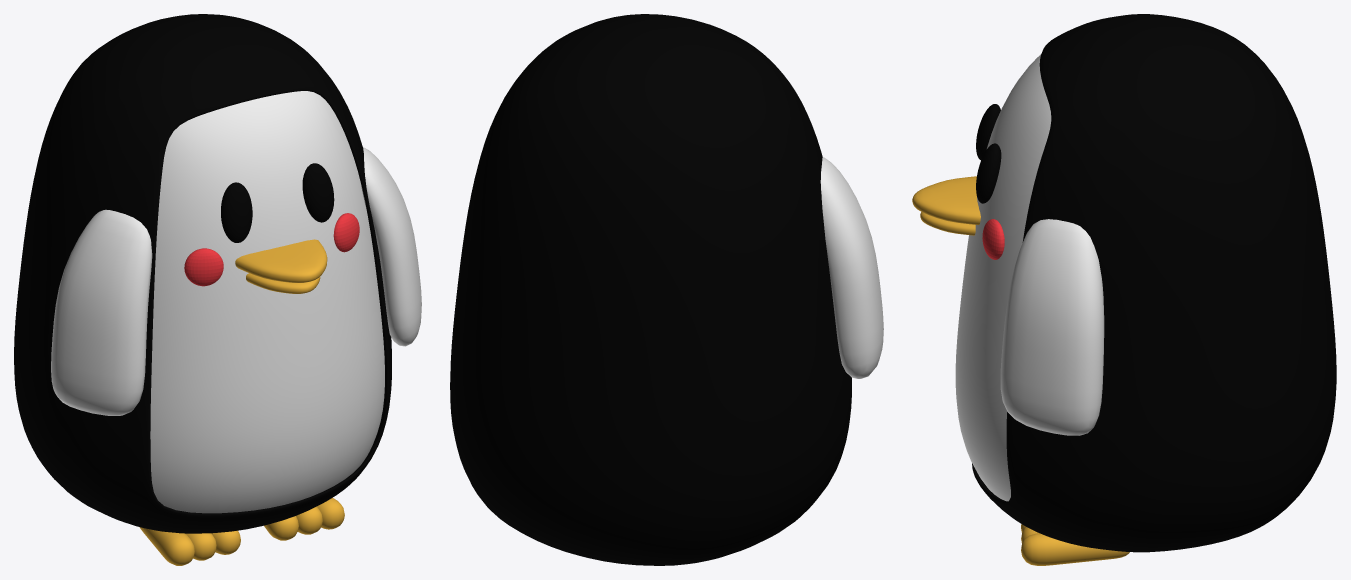
File: penguin.fbx
3 views of the same model, side by side, from view 1: azimuth 30°, elevation 25°; view 2: azimuth 150°, elevation 25°; view 3: azimuth 270°, elevation 25° (orthographic). The views are drawn at different scales.
Parts seen in each view (by area): view 1: Cube.001, Cube.002, Cube.003, Sphere, Plane, Sphere.001, Vert.001, Vert, Vert.002, Plane.001; view 2: Cube.002, Cube.003; view 3: Cube.002, Cube.003, Cube.001, Plane, Vert.001, Sphere, Sphere.001, Plane.001.
Boxes of the visible parts, left/top/right/bottom form: Cube.001: left=150, top=91, right=384, bottom=513; Cube.002: left=14, top=14, right=391, bottom=533; Cube.003: left=51, top=147, right=421, bottom=415; Sphere: left=221, top=163, right=334, bottom=242; Plane: left=235, top=239, right=327, bottom=282; Sphere.001: left=184, top=213, right=359, bottom=286; Vert.001: left=139, top=498, right=344, bottom=565; Vert: left=185, top=506, right=322, bottom=560; Vert.002: left=211, top=516, right=298, bottom=554; Plane.001: left=246, top=273, right=320, bottom=293; Cube.002: left=450, top=14, right=851, bottom=565; Cube.003: left=820, top=157, right=883, bottom=378; Cube.002: left=972, top=14, right=1336, bottom=552; Cube.003: left=1000, top=219, right=1104, bottom=435; Cube.001: left=955, top=54, right=1051, bottom=501; Plane: left=912, top=176, right=980, bottom=224; Vert.001: left=1021, top=533, right=1129, bottom=565; Sphere: left=976, top=104, right=1001, bottom=203; Sphere.001: left=982, top=219, right=1004, bottom=259; Plane.001: left=920, top=212, right=975, bottom=235.
Size of the model in its own units: 207 by 263 by 204.
